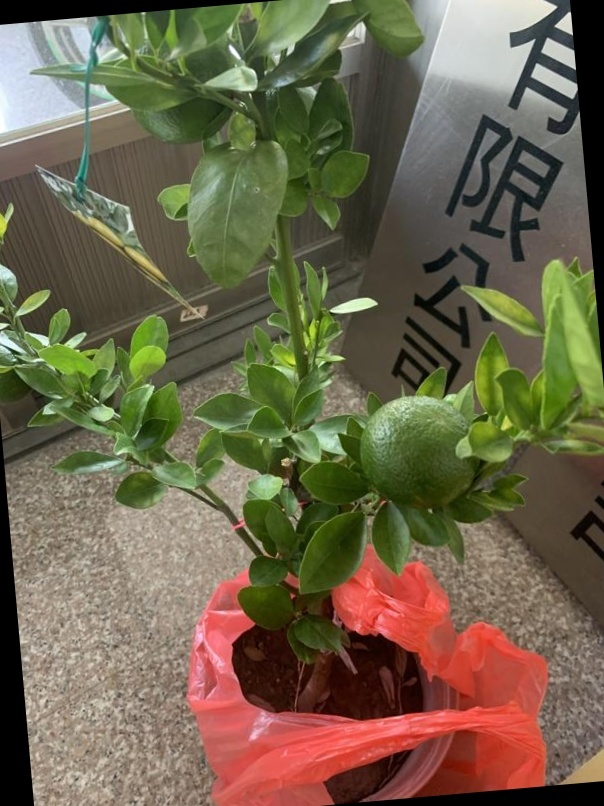Tangerine: (361, 391, 482, 504)
